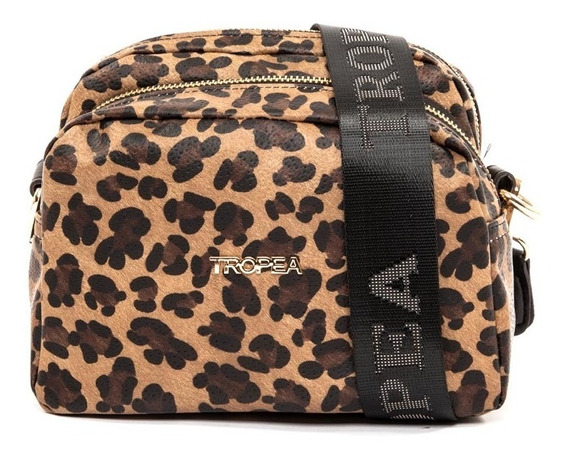cartera: (27, 23, 536, 430)
